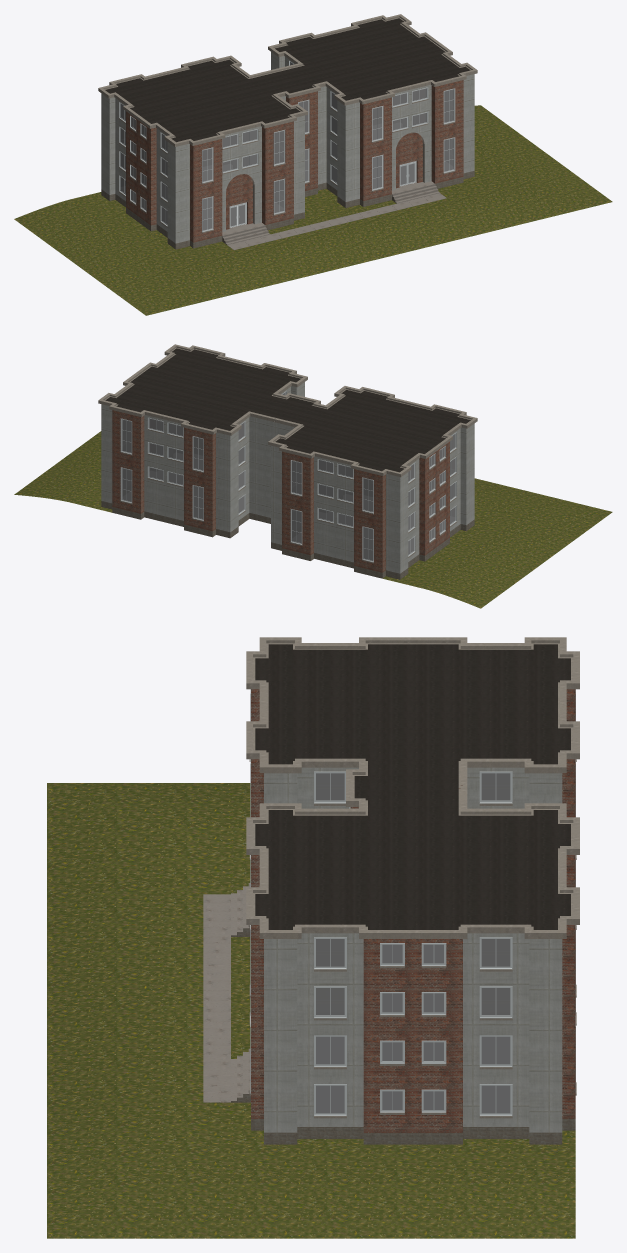
Rendered from apartment.glb.
3 views of the same model, one above another, from view 1: azimuth 30°, elevation 25°; view 2: azimuth 150°, elevation 25°; view 3: azimuth 270°, elevation 25° (orthographic). The views are drawn at different scales.
Parts seen in each view (by area): view 1: Material2 (×9); view 2: Material2 (×8); view 3: Material2 (×9).
Part boxes in pixels (x1,y1,x2,y2): Material2 (×9): [14, 14, 612, 315]; Material2 (×8): [14, 344, 612, 608]; Material2 (×9): [47, 637, 579, 1238].
Size of the model in its own units: 1953 by 451 by 965.
Materials: 10 (8 with a texture image).
